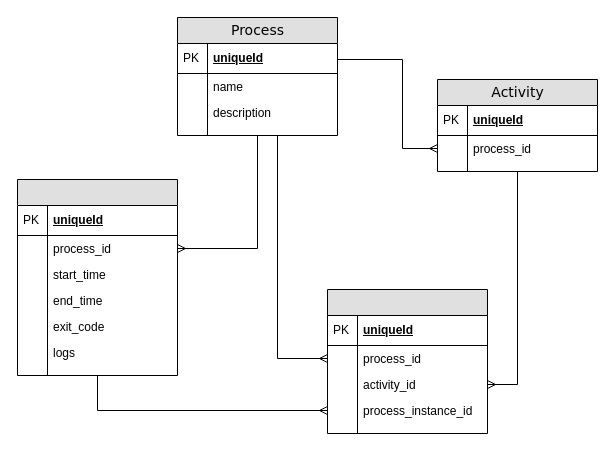
Some shapes in this 615 by 451 pixel diagram are drawn without their labels. Here are the shapes that lost their labels. From the top down, the box of each, then its label:
(16, 178, 178, 376): Process Instance
(326, 288, 488, 434): Token
